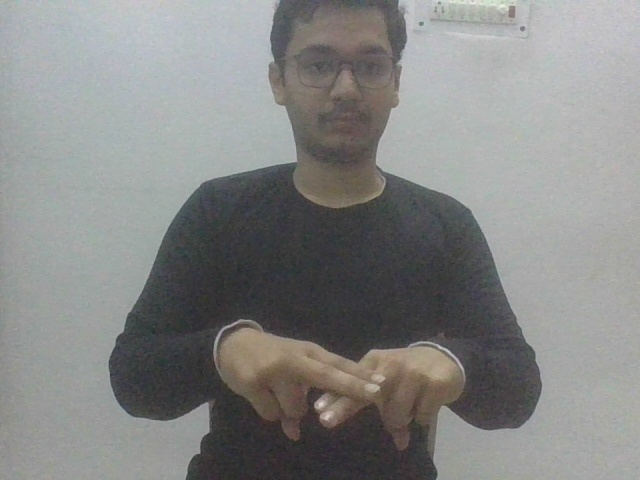F: (211, 318, 468, 448)
